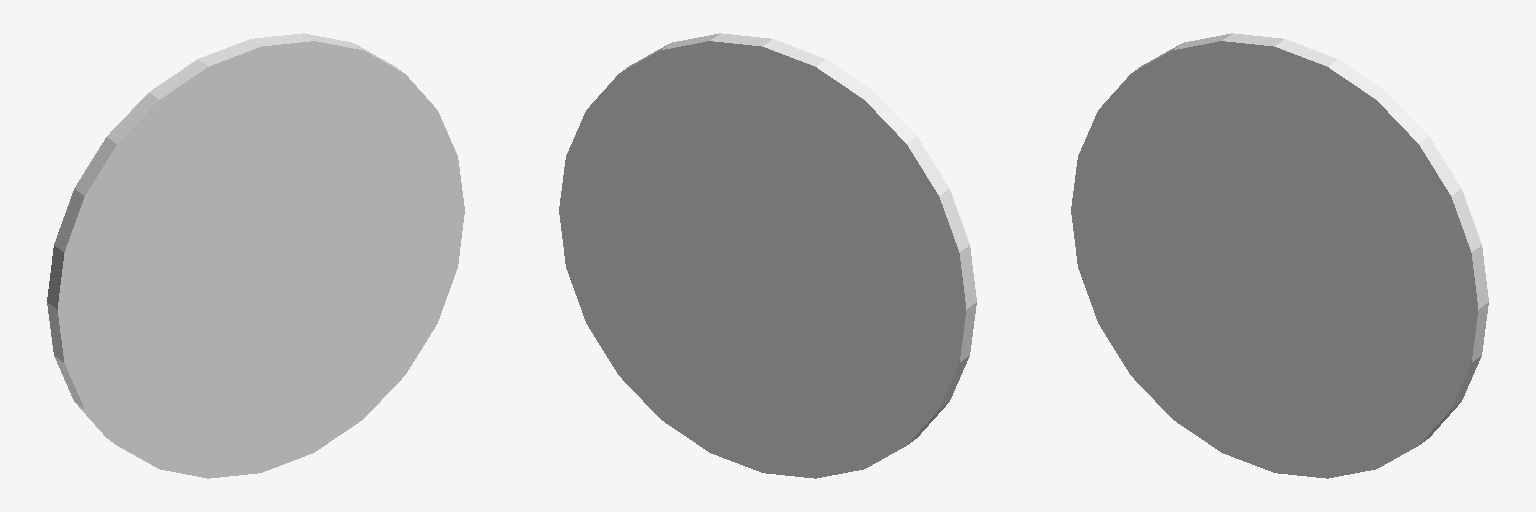
File: money24.obj
3 views of the same model, side by side, from view 1: azimuth 30°, elevation 25°; view 2: azimuth 150°, elevation 25°; view 3: azimuth 330°, elevation 25° (orthographic).
Visible parts, largest first — view 1: 500yen24; view 2: 500yen24; view 3: 500yen24.
Boxes of the visible parts, <box> form: 500yen24: <box>47,33,464,478</box>; 500yen24: <box>559,33,976,478</box>; 500yen24: <box>1071,33,1488,478</box>.
Size of the model in its own units: 26.73 by 26.73 by 1.2.